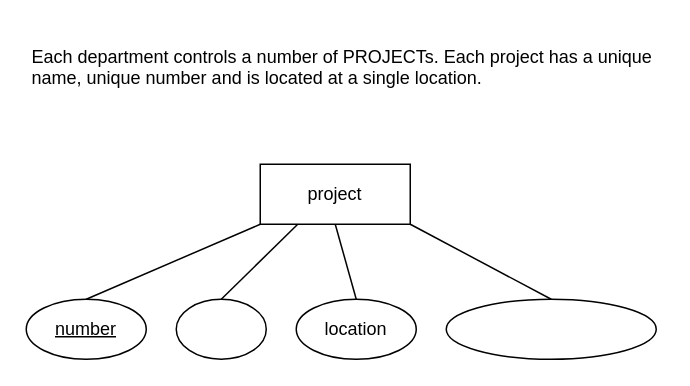
This 690x386 diagram has some shape labels left out. The centre of each missing label's shape, as x and y in pixels:
controlling_department: (x=550, y=328)
name: (x=220, y=328)
